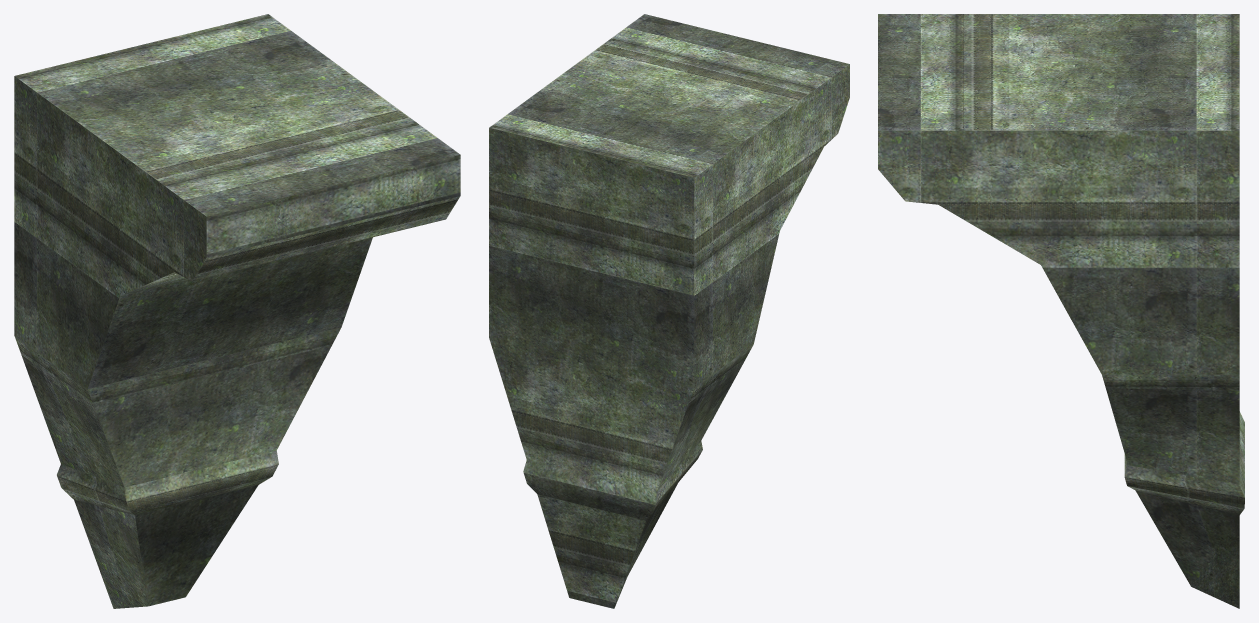
The model's file is fitting2-2.fbx.
The picture shows the model from 3 angles, left to right: view 1: azimuth 30°, elevation 25°; view 2: azimuth 150°, elevation 25°; view 3: azimuth 270°, elevation 25°; orthographic projection. The views are drawn at different scales.
Visible parts, largest first — view 1: Mesh Object; view 2: Mesh Object; view 3: Mesh Object.
Part boxes in pixels (x1,y1,x2,y2): Mesh Object: (14, 14, 460, 608); Mesh Object: (489, 14, 849, 608); Mesh Object: (878, 14, 1244, 608).
Size of the model in its own units: 0.5 by 1.05 by 0.6649.
